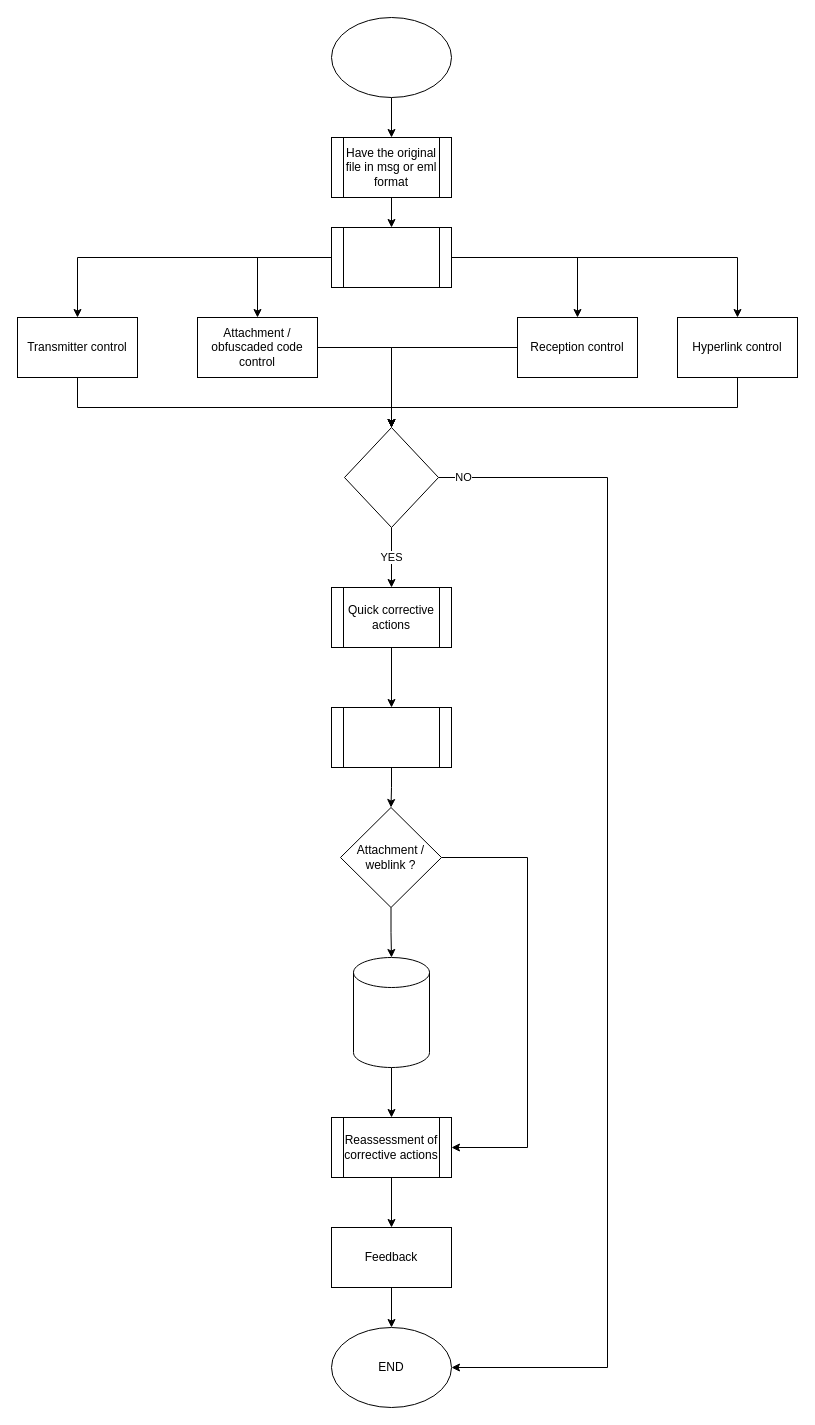
This 815x1425 diagram has some shape labels left out. Here are the shapes that lost their labels. From the top down, the centre of each, then its label:
At [391,57]: "START".
At [391,257]: "Analyze email code".
At [391,477]: "Malicious Mail ?".
At [391,737]: "Identify other victims".
At [391,1012]: "Make your database".
